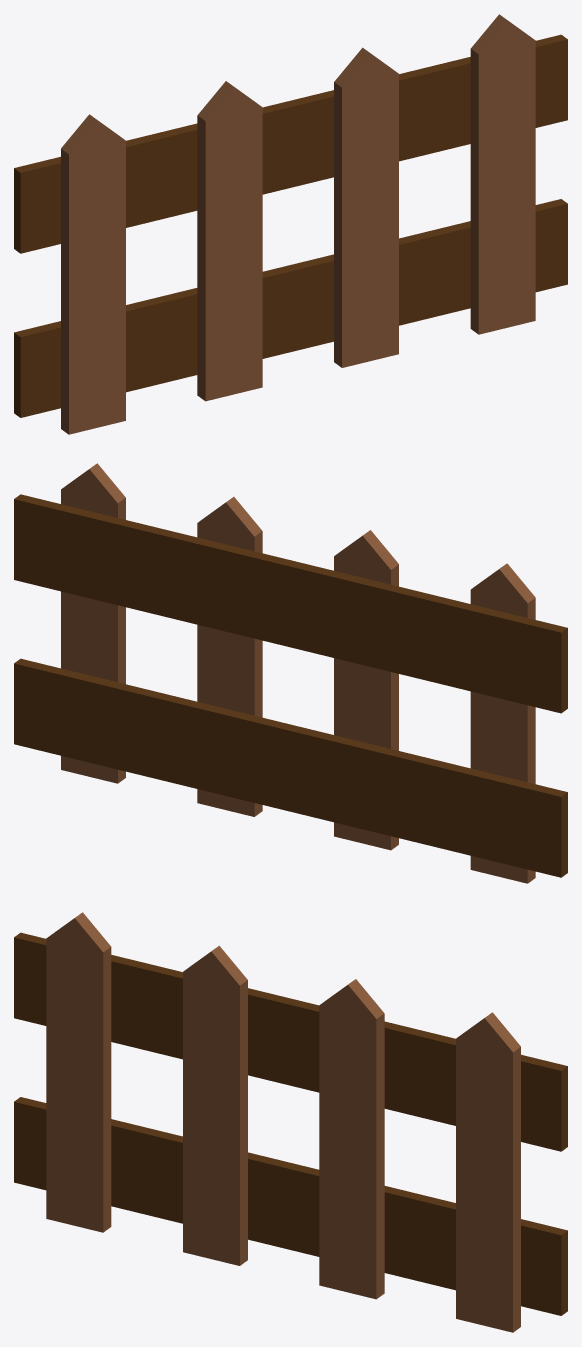
The model's file is SM_fence_02.glb.
3 views of the same model, one above another, from view 1: azimuth 30°, elevation 25°; view 2: azimuth 150°, elevation 25°; view 3: azimuth 330°, elevation 25° (orthographic).
Visible parts, largest first — view 1: SM_fence_02; view 2: SM_fence_02; view 3: SM_fence_02.
Part boxes in pixels (left/top/right/bottom): SM_fence_02: left=14, top=14, right=567, bottom=434; SM_fence_02: left=14, top=463, right=567, bottom=883; SM_fence_02: left=14, top=912, right=567, bottom=1332.
Size of the model in its own units: 1 by 0.5372 by 0.0463.
Materials: 1 (1 with a texture image).
